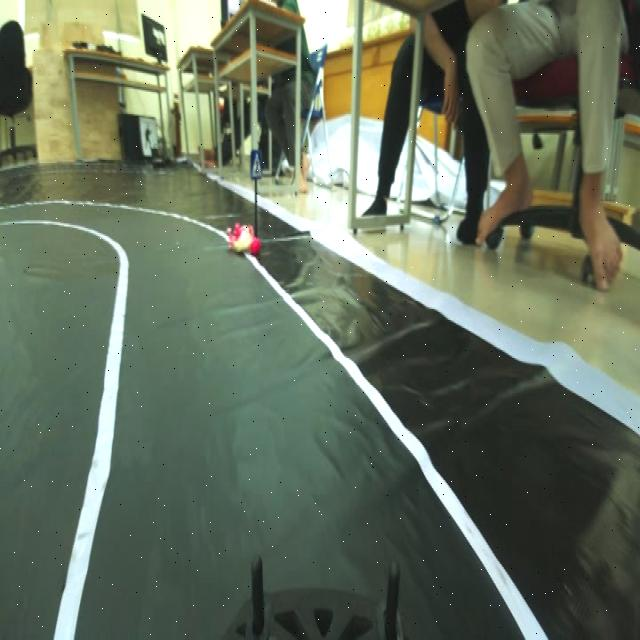crosswalk: (247, 147, 266, 186)
